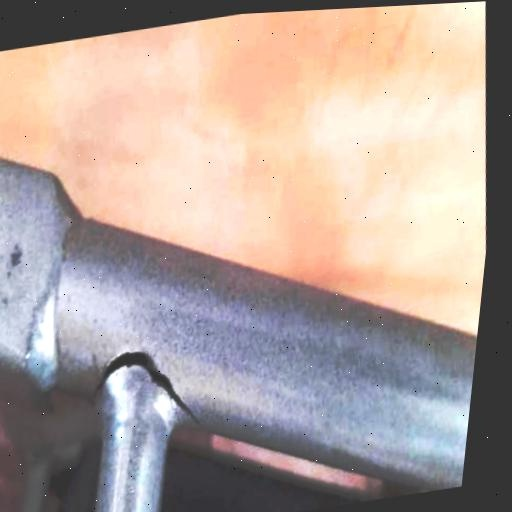crack: (72, 327, 226, 458)
